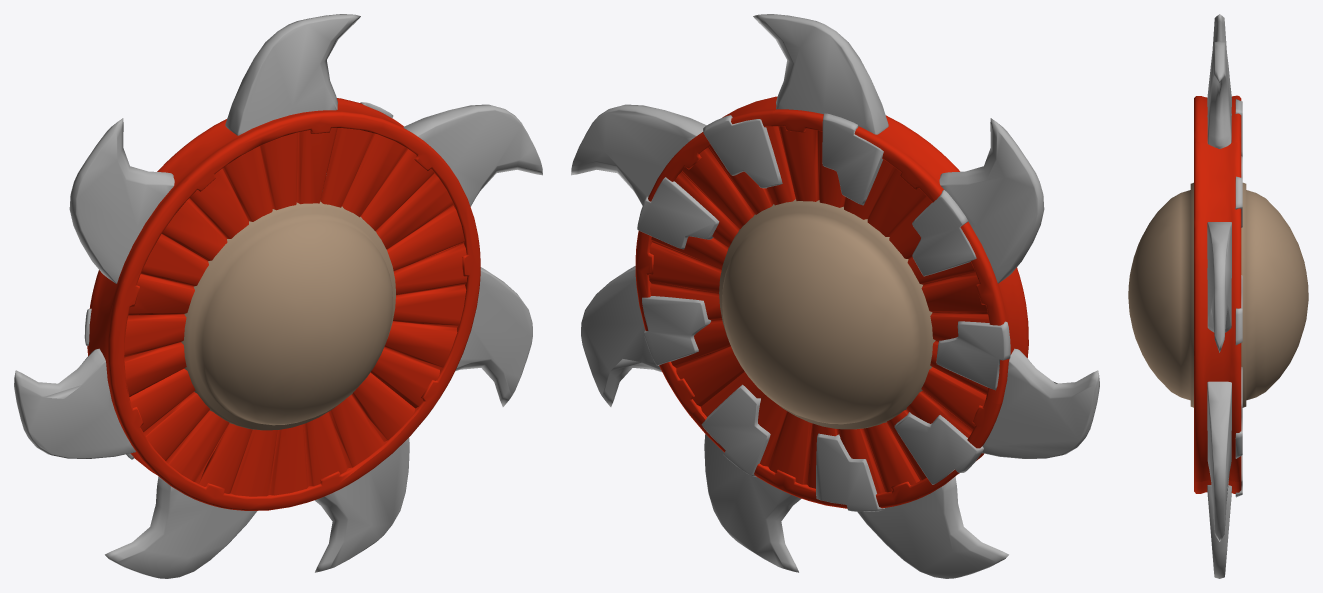
Rendered from Enemy Ship.FBX.
3 renders of one model, left to right at view 1: azimuth 30°, elevation 25°; view 2: azimuth 150°, elevation 25°; view 3: azimuth 270°, elevation 25°, orthographic. The views are drawn at different scales.
Visible parts, largest first — view 1: Object07; view 2: Object07; view 3: Object07.
Boxes of the visible parts, left/top/right/bottom form: Object07: left=14, top=14, right=542, bottom=578; Object07: left=571, top=14, right=1099, bottom=578; Object07: left=1128, top=14, right=1308, bottom=578.
Bounding box in the file's own units: 343 × 344 × 109.
